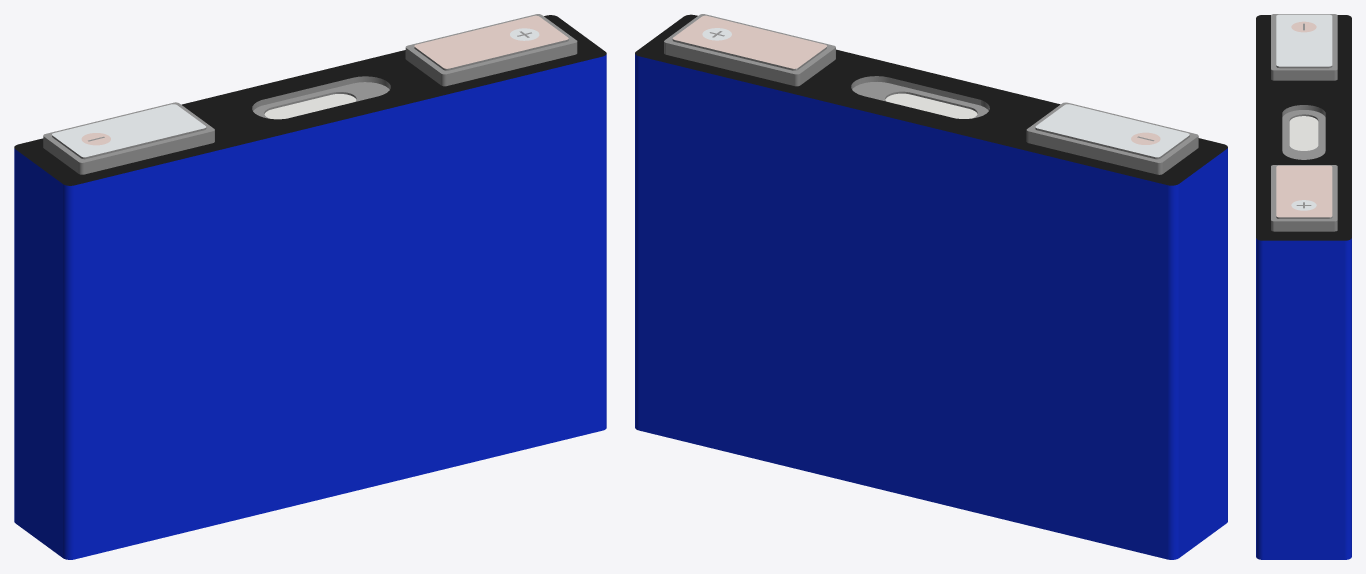
The model's file is PrismaticCell.glb.
The picture shows the model from 3 angles, left to right: view 1: azimuth 30°, elevation 25°; view 2: azimuth 150°, elevation 25°; view 3: azimuth 270°, elevation 25°; orthographic projection. The views are drawn at different scales.
Visible parts, largest first — view 1: Lishen NMC 26.5*148*101.5 -51AH v4; view 2: Lishen NMC 26.5*148*101.5 -51AH v4; view 3: Lishen NMC 26.5*148*101.5 -51AH v4.
Part boxes in pixels (x1,y1,x2,y2): Lishen NMC 26.5*148*101.5 -51AH v4: [14, 14, 606, 559]; Lishen NMC 26.5*148*101.5 -51AH v4: [635, 14, 1227, 559]; Lishen NMC 26.5*148*101.5 -51AH v4: [1256, 14, 1351, 559].
Bounding box in the file's own units: 0.148 × 0.1011 × 0.0265.
